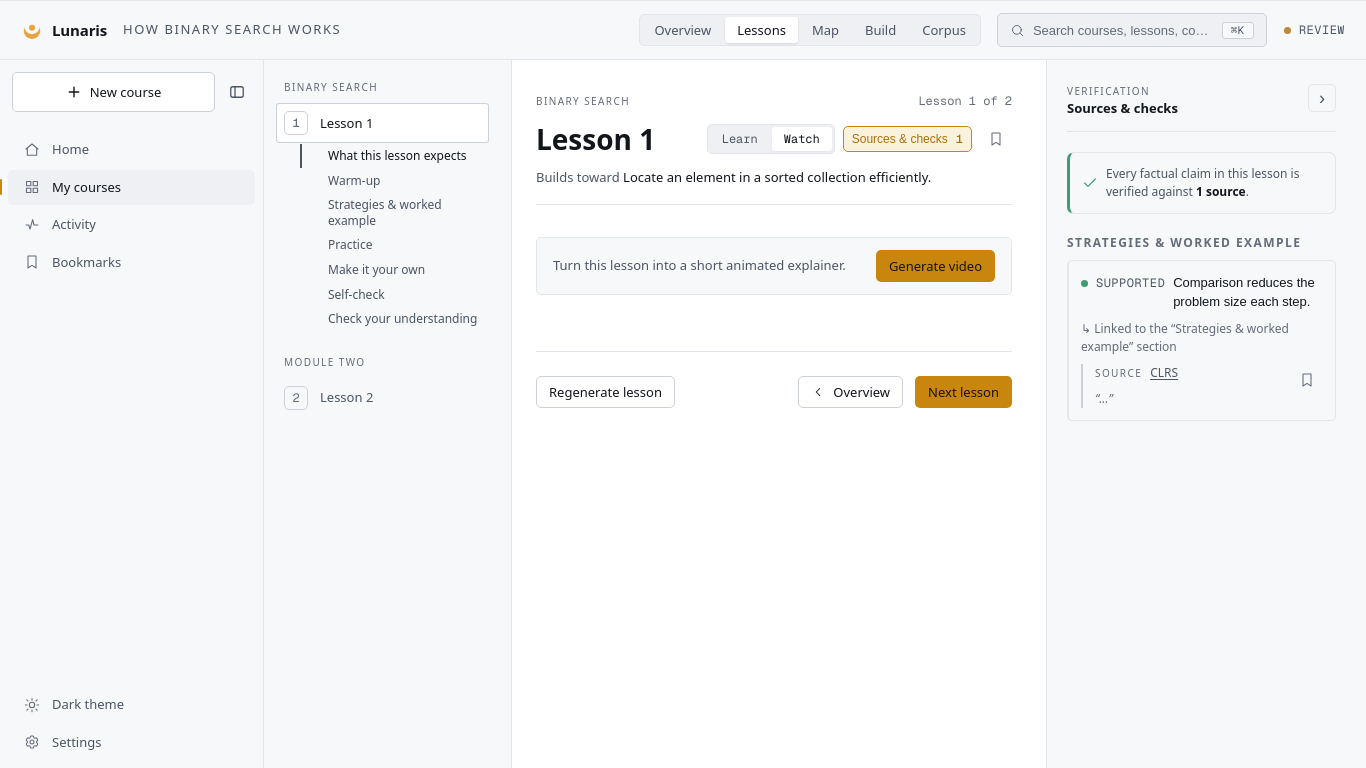
App — URL routing (live studio) › the reader's Next/Previous walk the lesson URL
This screenshot has width=1366, height=768.
Click the button "Next lesson": (964, 392) [915,376,1012,408]
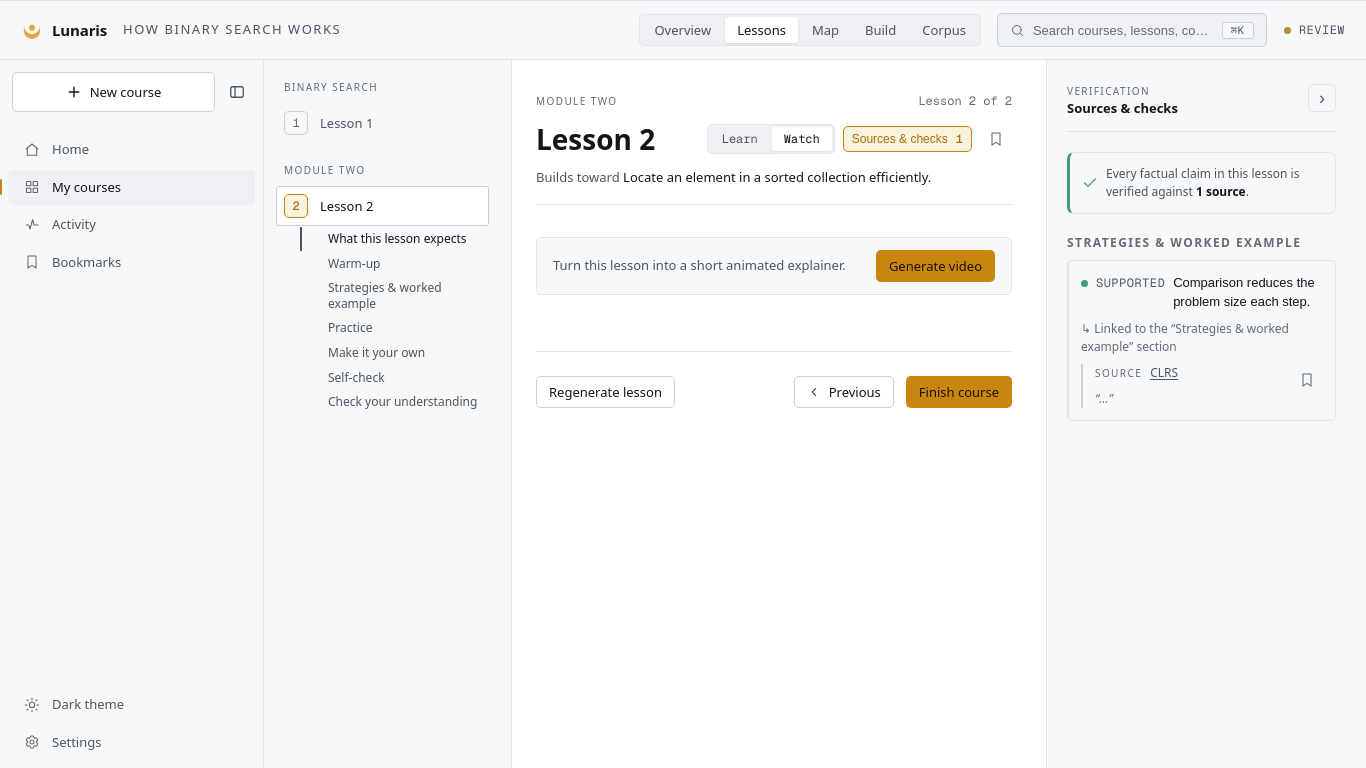
Now the text "Lesson 2 of 2" is shown, box [918,92,1012,110]
Click the button with aria-label "previous lesson": (844, 392) [794,376,894,408]
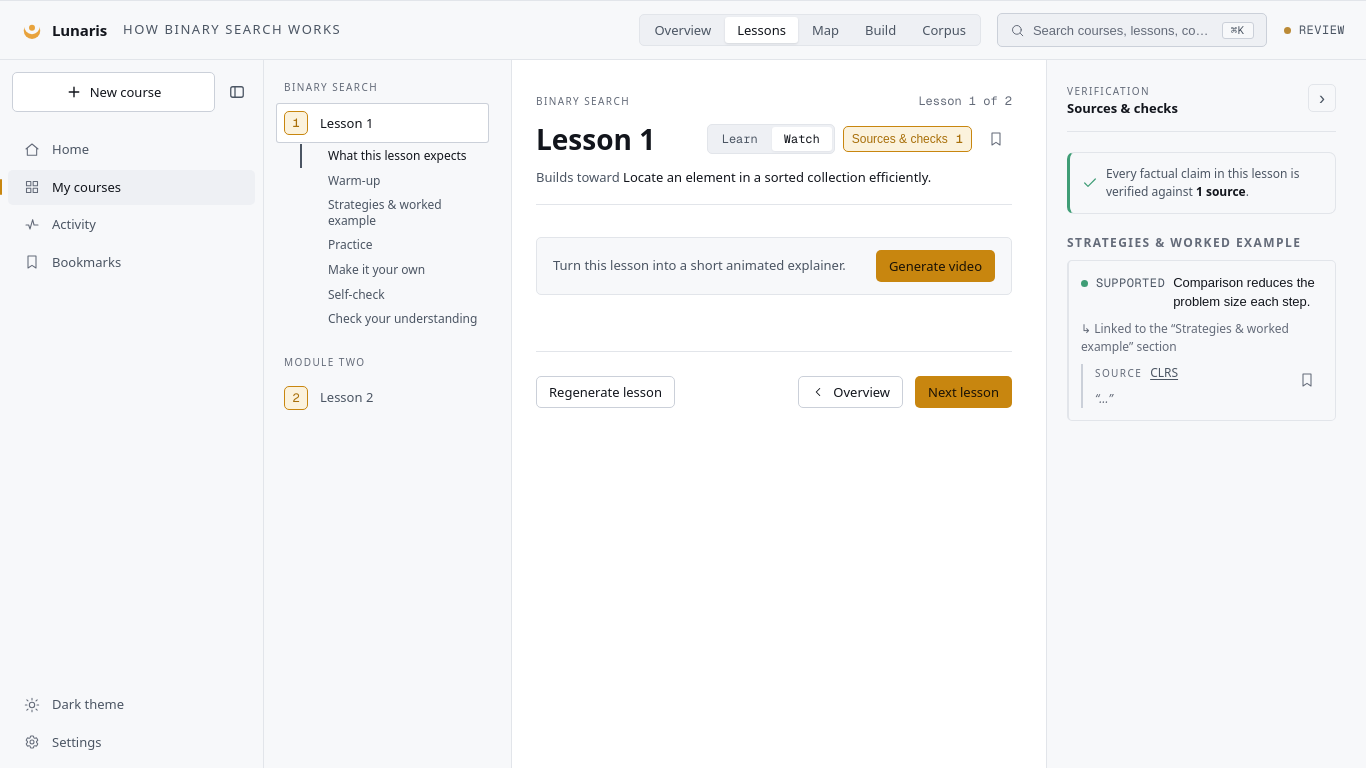
Now the text "Lesson 1 of 2" is shown, box [918,92,1012,110]
